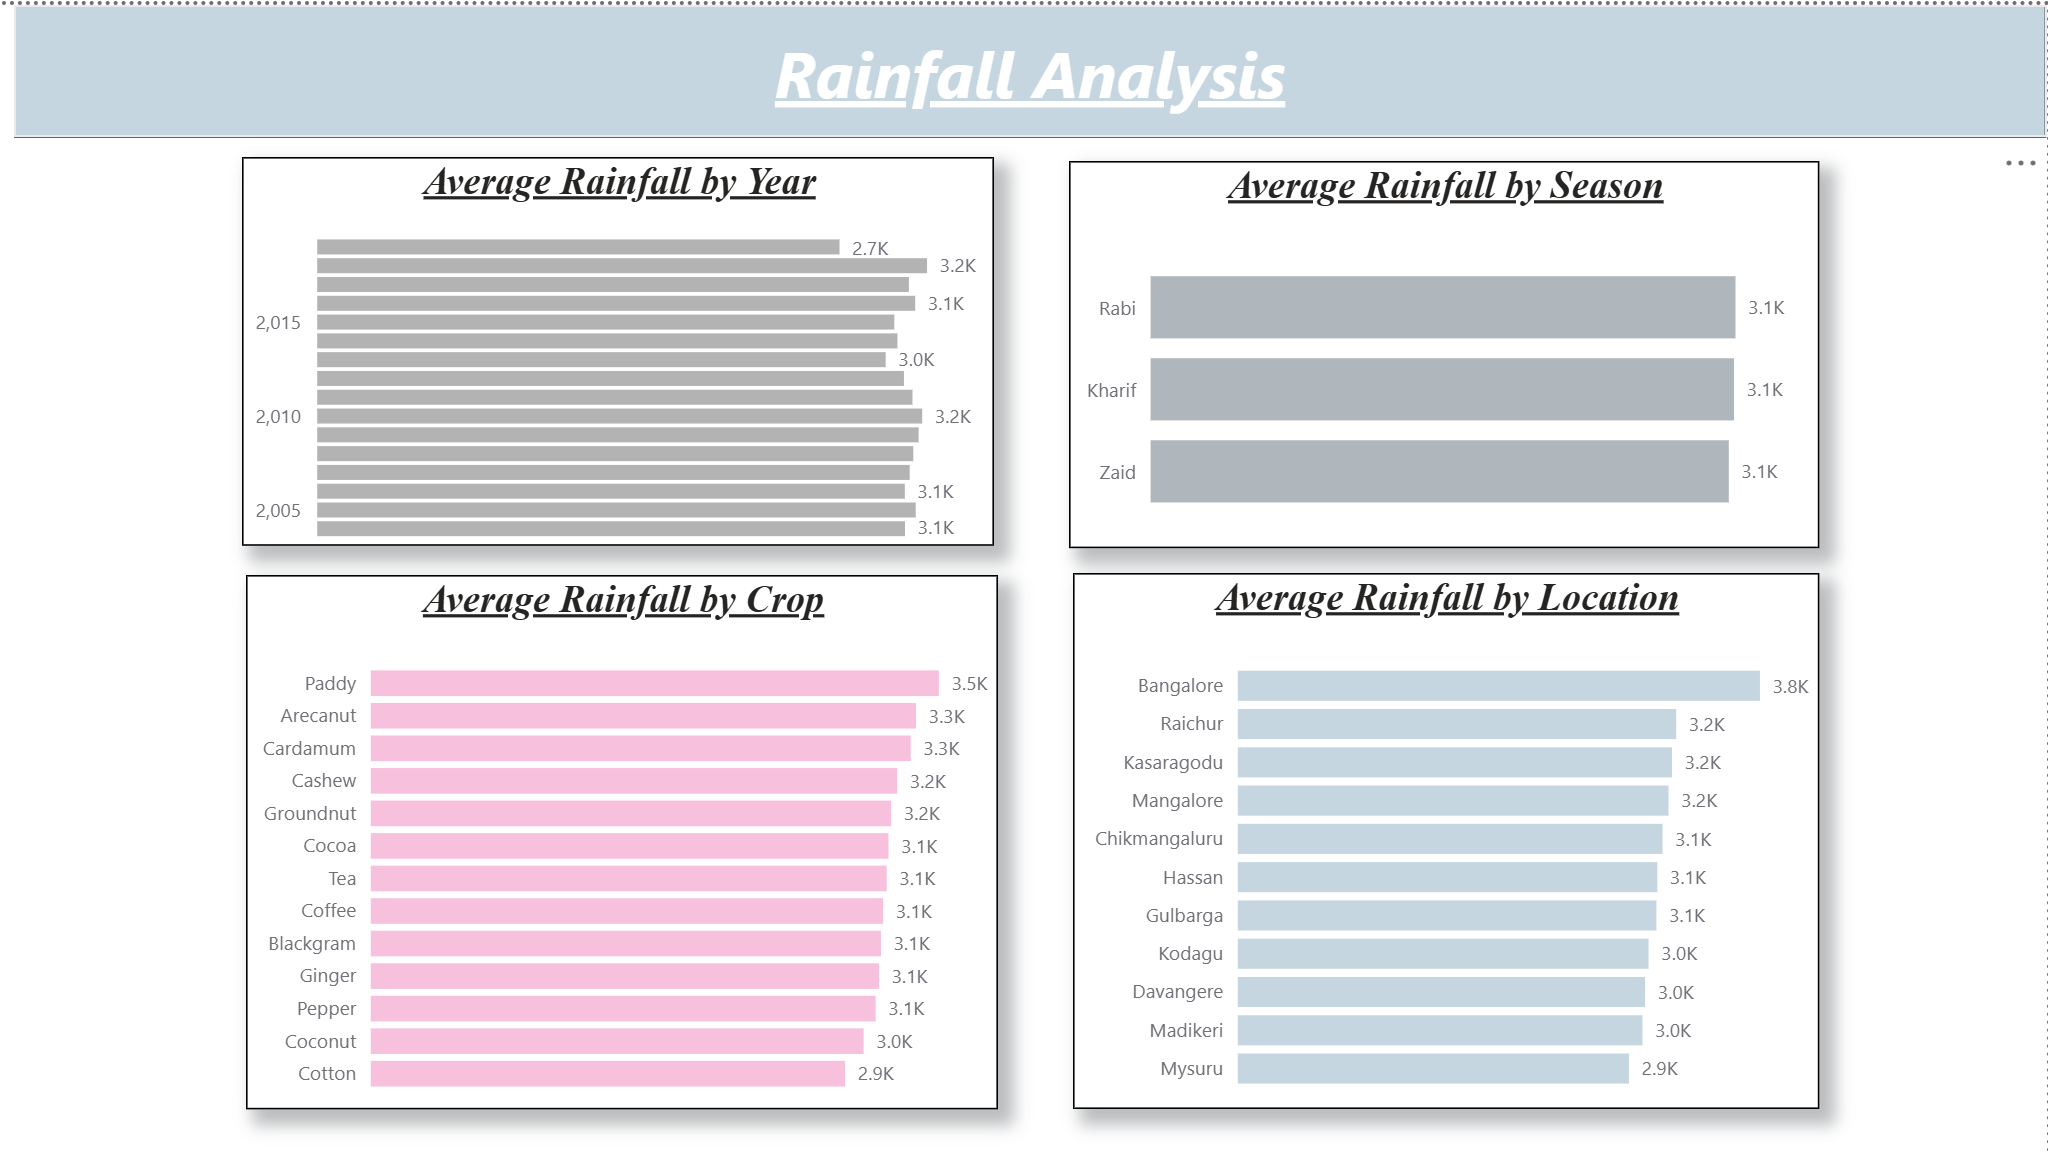

Layout of this report page (visuals, bound fields, positions):
{"tool":"powerbi","page":{"name":"Rainfall_Analysis","canvas":[1280,720],"ordinal":0},"visuals":[{"type":"shape","box":[10.4,0,1269.5,82.9],"z":0},{"type":"barChart","title":"Average Rainfall by Year","fields":{"Category":["AGRICULTURE.YEAR"],"Y":["Avg(AGRICULTURE.RAINFALL)"]},"box":[152.5,95.6,470,243.1],"z":1},{"type":"barChart","title":"Average Rainfall by Season","fields":{"Y":["Avg(AGRICULTURE.RAINFALL)"],"Category":["AGRICULTURE.SEASON"]},"box":[668.7,97.1,469.1,242.1],"z":2},{"type":"barChart","title":"Average Rainfall by Crop","fields":{"Y":["Avg(AGRICULTURE.RAINFALL)"],"Category":["AGRICULTURE.CROPS"]},"box":[154.8,356,470,334.1],"z":3},{"type":"barChart","title":"Average Rainfall by Location","fields":{"Y":["Avg(AGRICULTURE.RAINFALL)"],"Category":["AGRICULTURE.LOCATION"]},"box":[671.5,355.6,466.3,335],"z":4}]}

Visuals, with their boxes in screenshot pixels (x1, y1, x2, y2), scaled from the page's 1280x720 canvas onto the 2048x1156 screenshot:
shape: locate(17, 0, 2047, 133)
"Average Rainfall by Year" barChart: locate(244, 153, 996, 544)
"Average Rainfall by Season" barChart: locate(1070, 156, 1820, 545)
"Average Rainfall by Crop" barChart: locate(248, 572, 1000, 1108)
"Average Rainfall by Location" barChart: locate(1074, 571, 1820, 1109)
